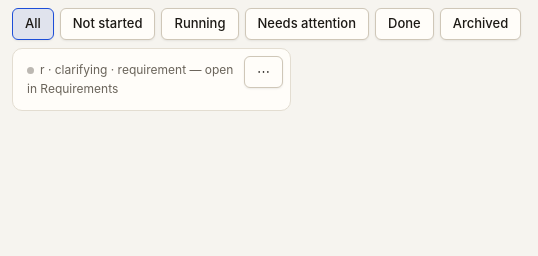
Scenario: pending requirement work disables archive with a reason
Click the button named "More actions" at (264, 72), box 244,56 -> 283,88
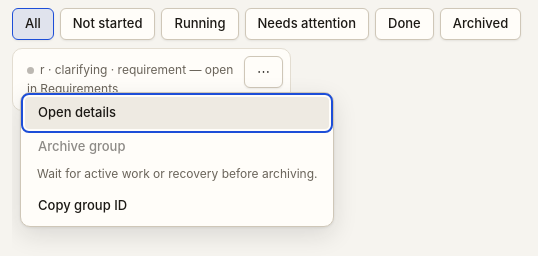
Expected: the menu item "Archive group" is disabled, 25,131 -> 330,163
